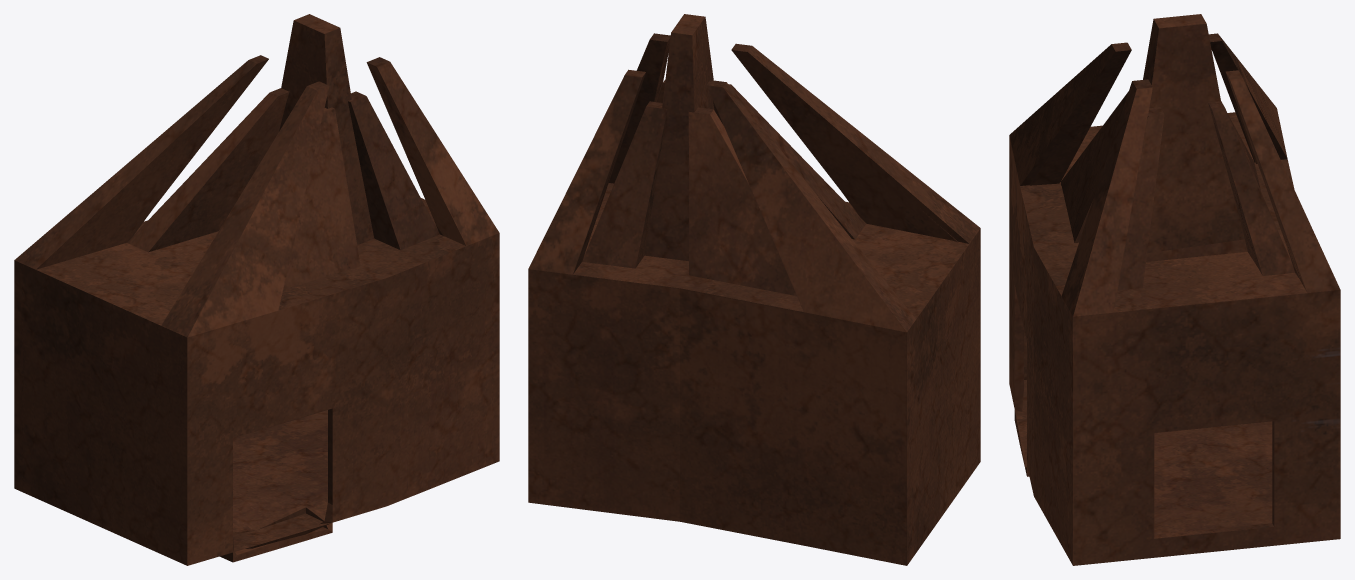
Rendered from Tower6.fbx.
3 renders of one model, left to right at view 1: azimuth 30°, elevation 25°; view 2: azimuth 150°, elevation 25°; view 3: azimuth 270°, elevation 25°, orthographic. The views are drawn at different scales.
Parts seen in each view (by area): view 1: Fight 6; view 2: Fight 6; view 3: Fight 6.
Part boxes in pixels (x1=…): Fight 6: x1=14, y1=14, x2=499, y2=565; Fight 6: x1=528, y1=14, x2=980, y2=565; Fight 6: x1=1009, y1=14, x2=1340, y2=565.
Size of the model in its own units: 10775 by 11665 by 7226.
Materials: 1 (1 with a texture image).
